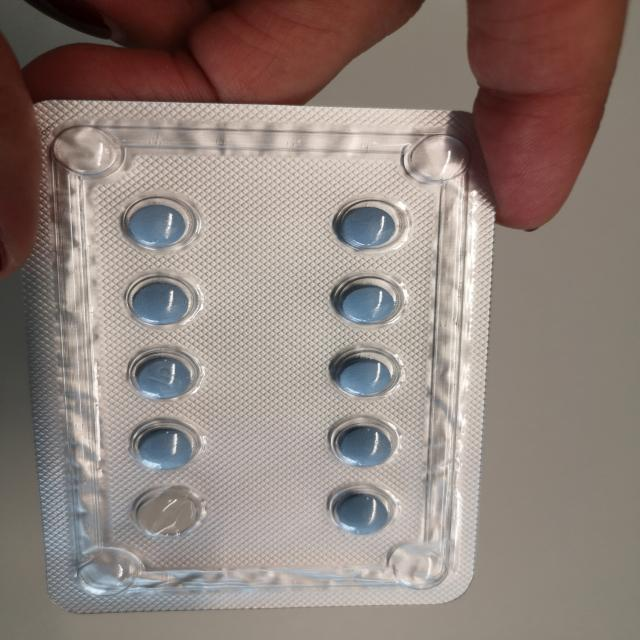Empty: (120, 478, 225, 544)
Pill: (106, 188, 209, 259), (113, 342, 213, 414), (321, 337, 416, 409), (318, 411, 420, 478), (320, 266, 420, 334), (316, 193, 422, 257), (316, 480, 412, 547), (116, 270, 207, 340), (116, 416, 213, 478)
